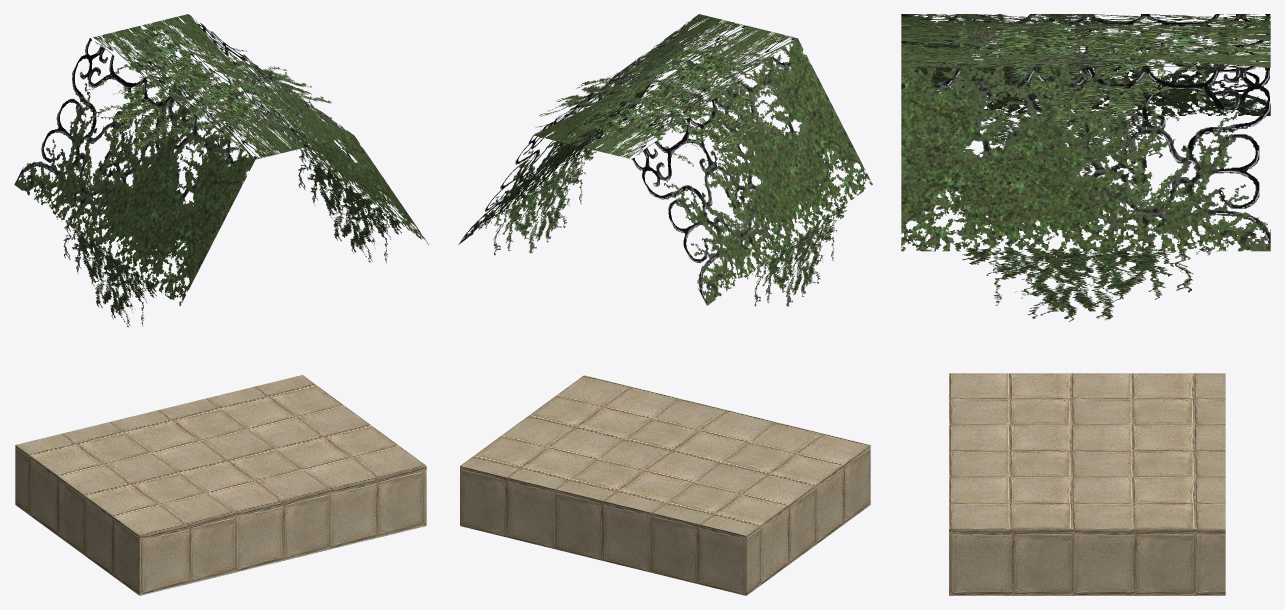
The model's file is thm_nboo_imprv_arbor_short_s02_l1.fbx.
3 views of the same model, side by side, from view 1: azimuth 30°, elevation 25°; view 2: azimuth 150°, elevation 25°; view 3: azimuth 270°, elevation 25° (orthographic). The views are drawn at different scales.
Parts seen in each view (by area): view 1: mesh_node; view 2: mesh_node; view 3: mesh_node.
Boxes of the visible parts, x1,y1,x2,y2 form: mesh_node: (14, 14, 428, 595); mesh_node: (458, 14, 872, 595); mesh_node: (901, 14, 1270, 595).
Bounding box in the file's own units: 4 × 5.86 × 4.01.
3 materials, 3 textured.
